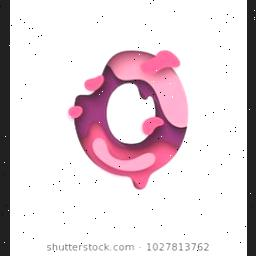o: (60, 48, 202, 188)
